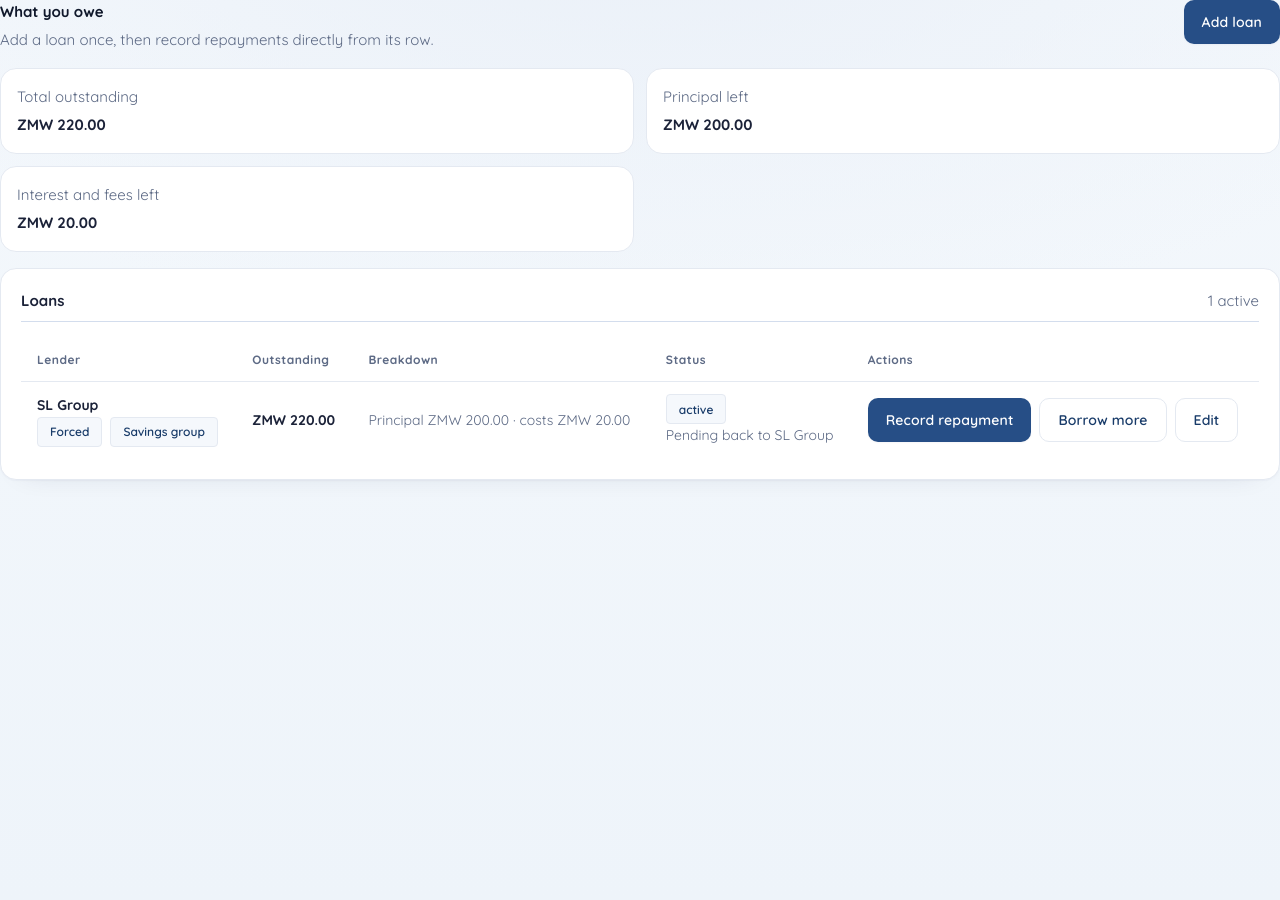
it: loans workspace › explains that a linked repayment returns to the group
The image size is (1280, 900).
Click the button "Record repayment" at (950, 420), box top-left (868, 398), bottom-right (1032, 442)
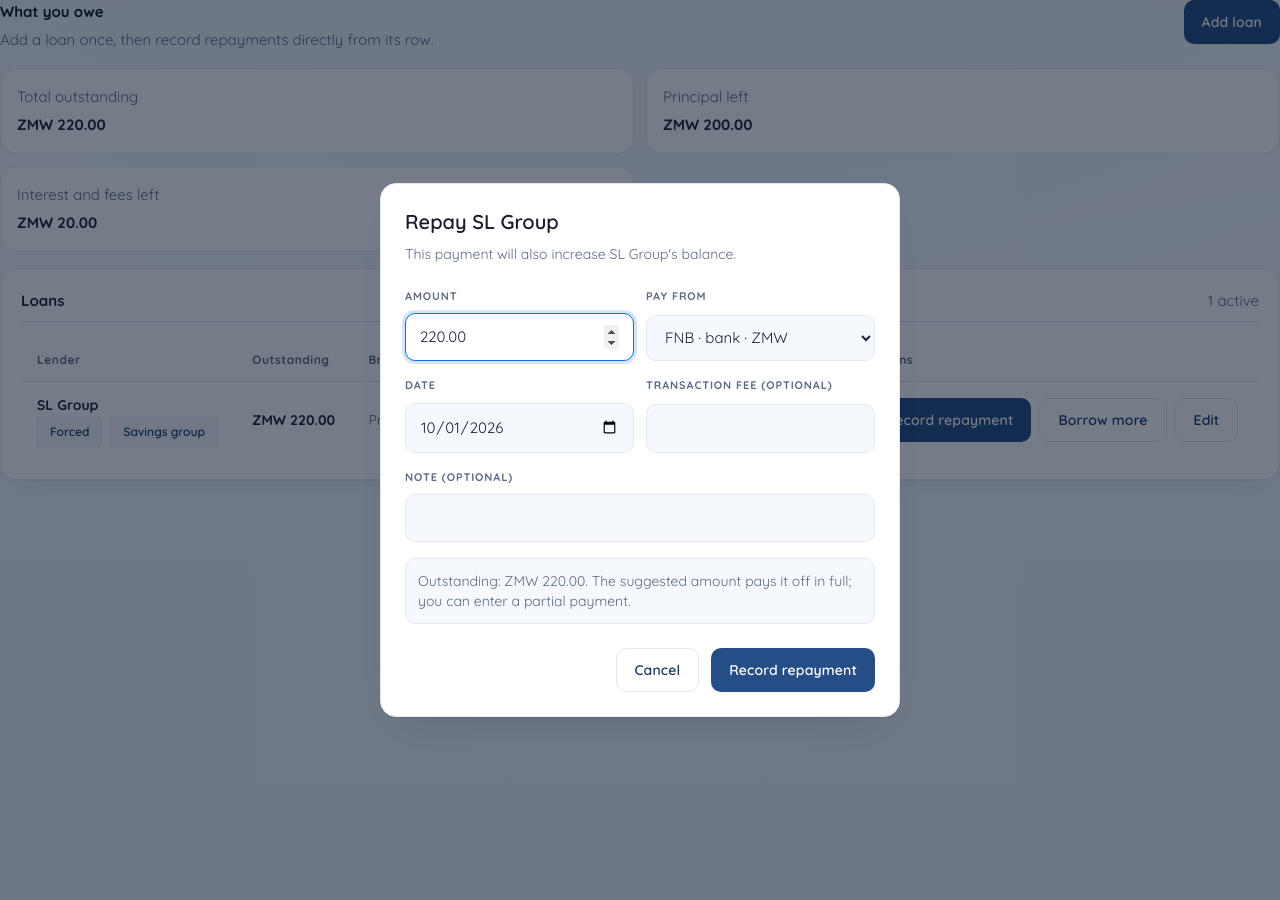
Now the dialog "Repay SL Group" shows "increase SL Group's balance", box top-left (405, 245), bottom-right (736, 263)
